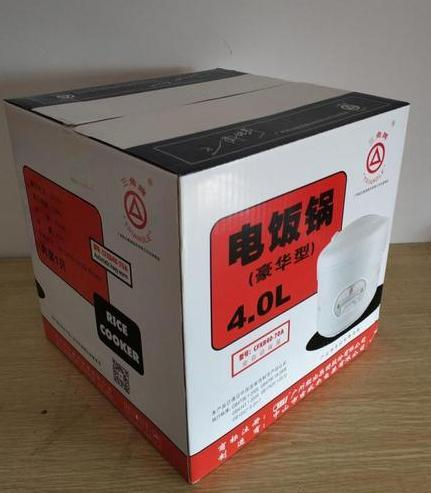cardboard: (5, 63, 411, 481)
